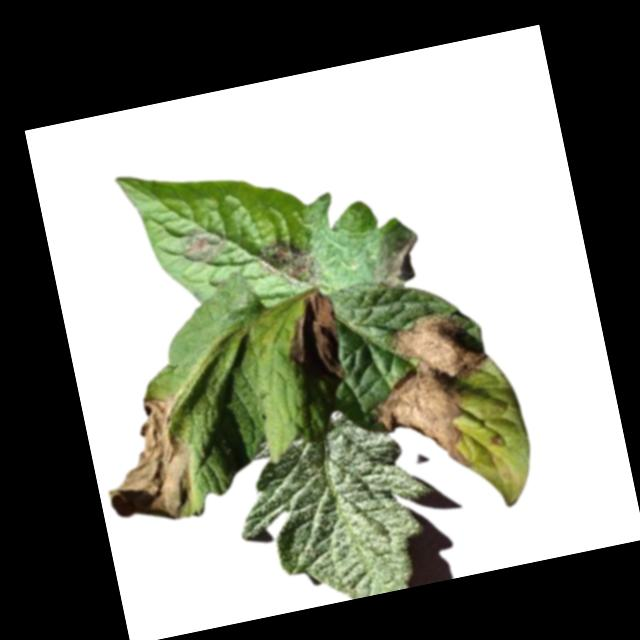Late_blight: (351, 301, 511, 485), (84, 391, 206, 534), (275, 285, 348, 390), (250, 232, 323, 298), (364, 226, 428, 297), (176, 221, 233, 269)
